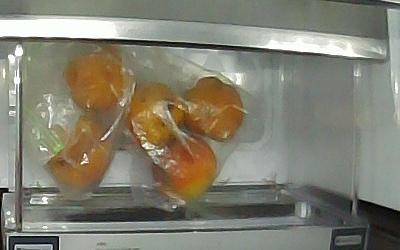peach_vinyl: (44, 116, 114, 192), (64, 44, 134, 111), (153, 136, 217, 202), (123, 82, 186, 148), (182, 75, 243, 141)
